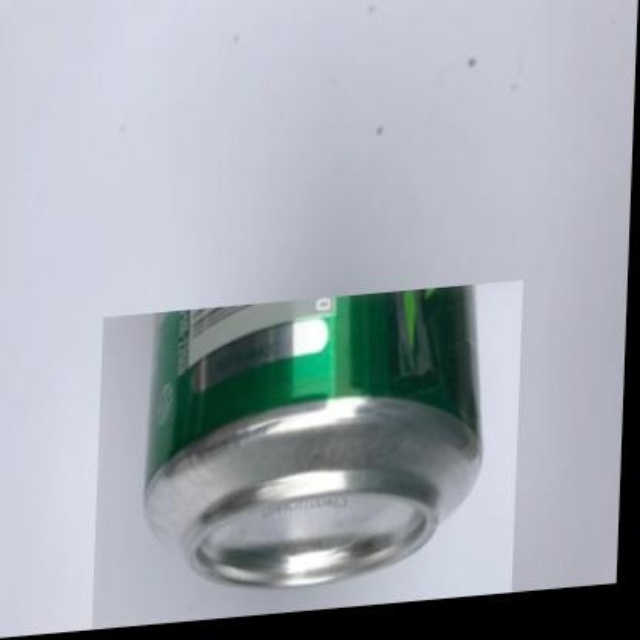trash: (145, 286, 478, 585)
